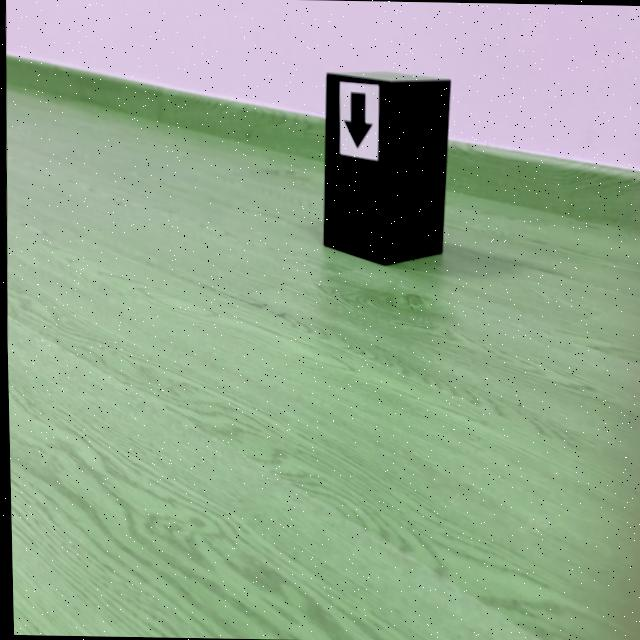DOWN: (343, 92, 371, 147)
